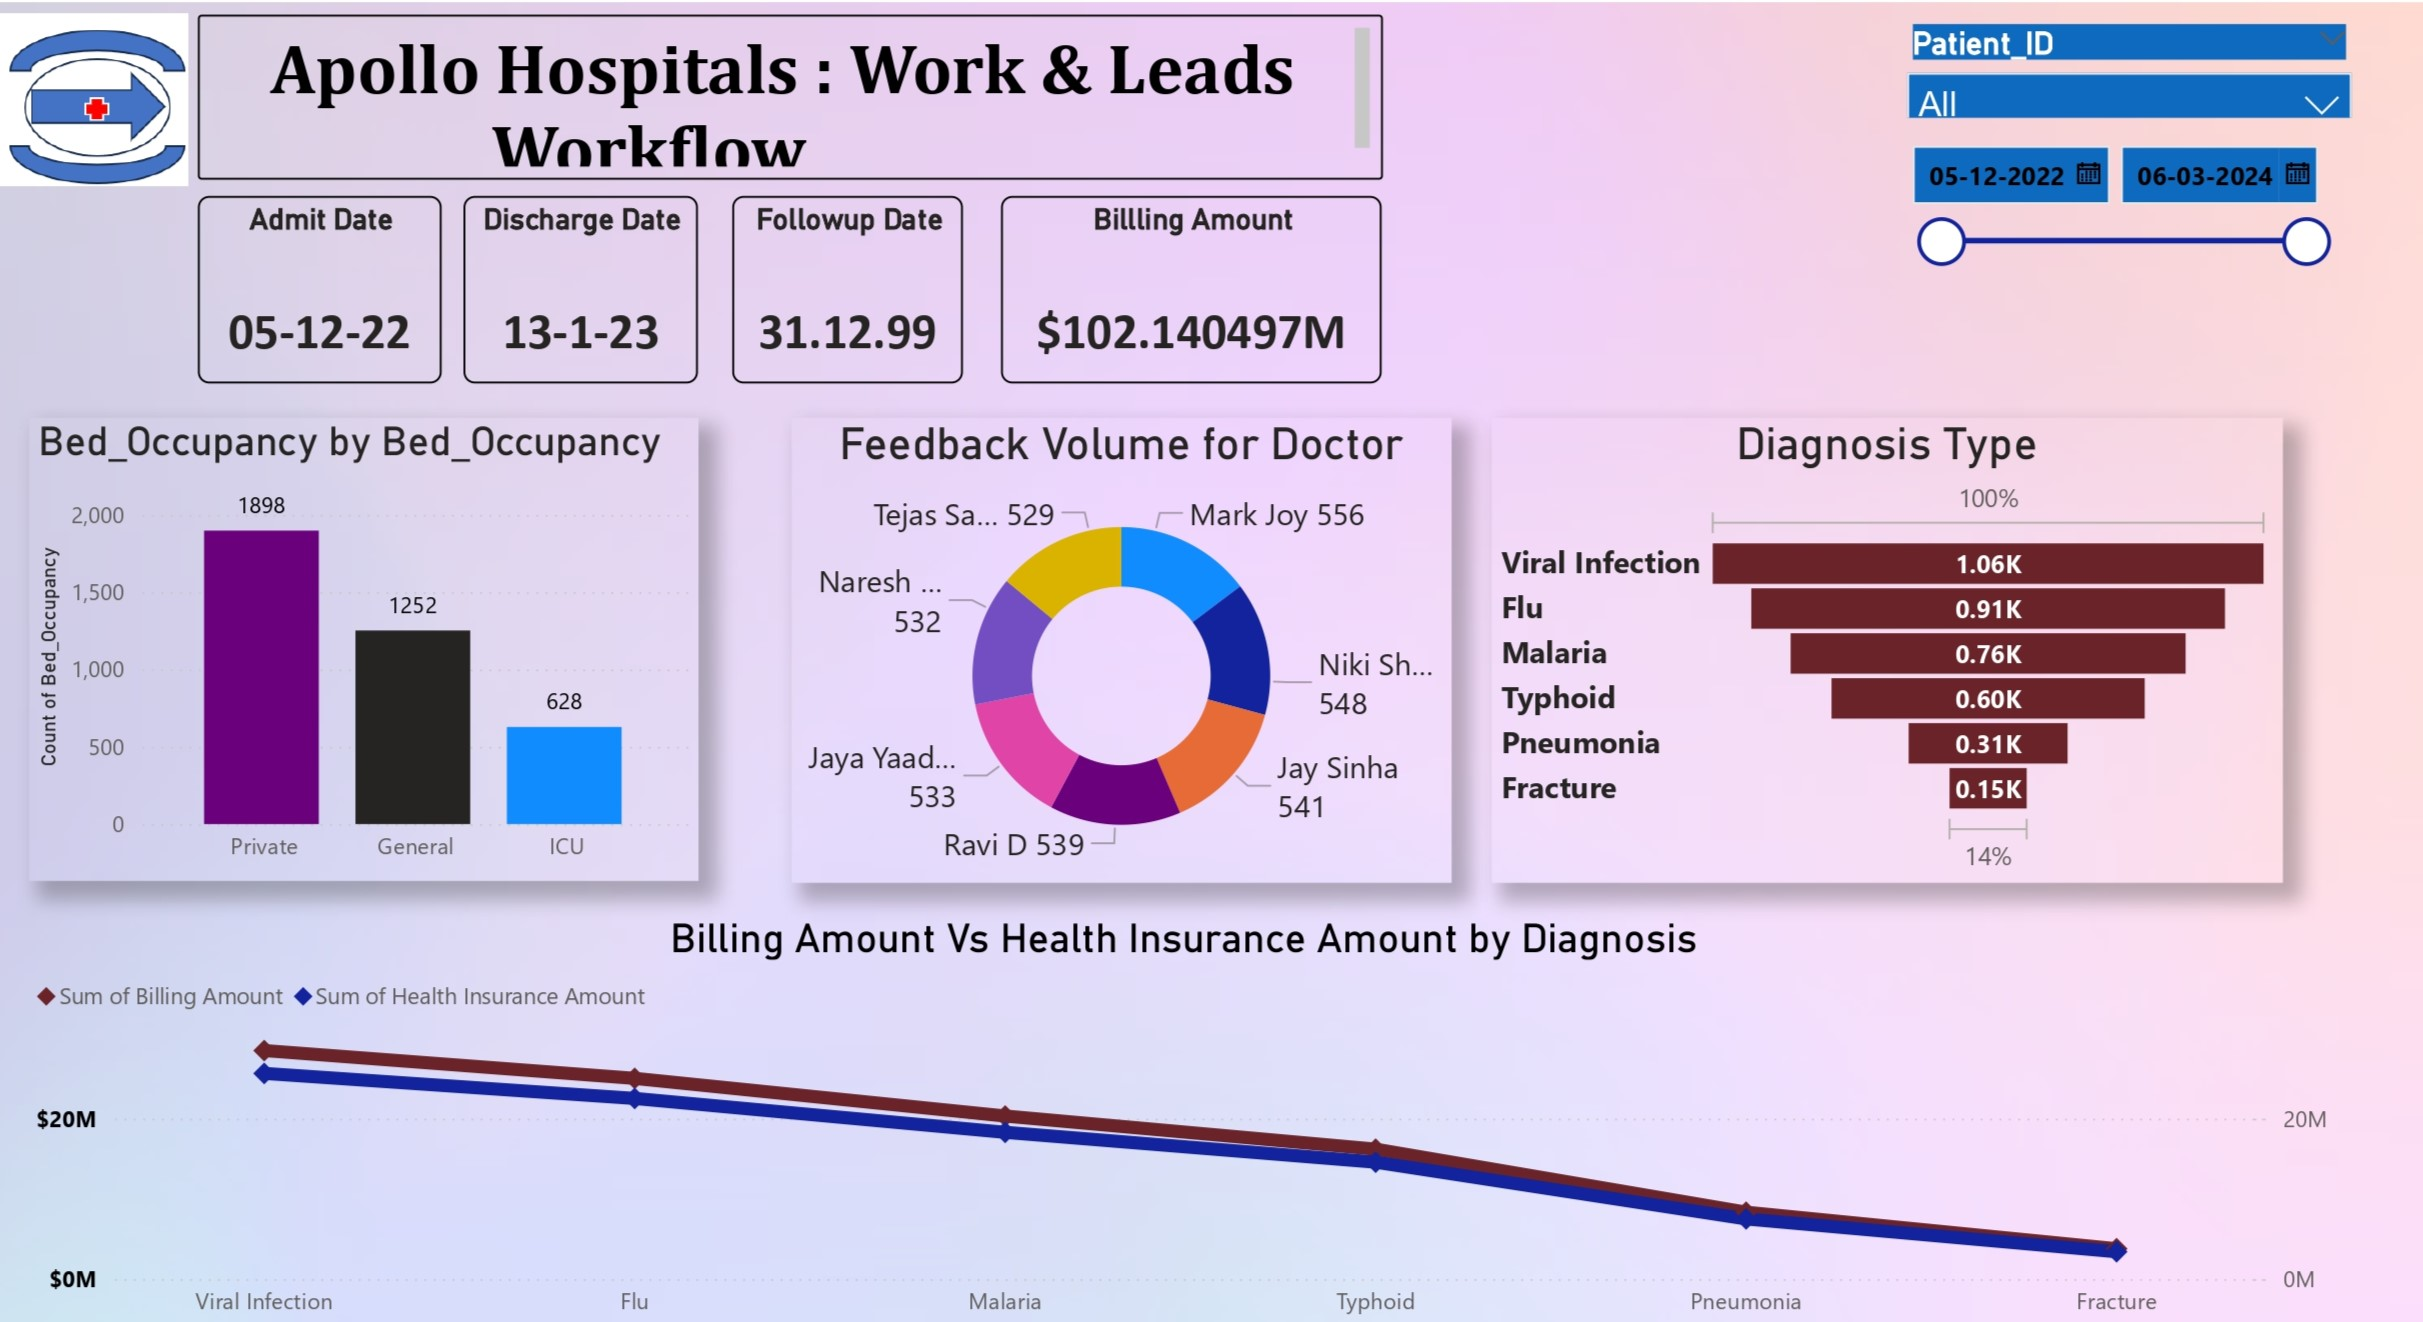

The page's visual inventory and layout, read from the dashboard file:
{"tool":"powerbi","page":{"name":"Page 1","canvas":[1280,720],"ordinal":0},"visuals":[{"type":"slicer","fields":{"Values":["Sheet1.Patient_ID"]},"box":[907.8,0,328.9,53.3],"z":0},{"type":"image","box":[78.8,0,76.2,71.2],"z":1000},{"type":"textbox","box":[173.8,18.8,630,37.5],"z":2000},{"type":"cardVisual","fields":{"Data":["Sheet1.Admit_Date"]},"box":[51.9,94.2,130.8,65.4],"z":3000},{"type":"cardVisual","fields":{"Data":["Sheet1.Discharge_Date","Sheet1.Discharge_Date"]},"box":[268.3,81.7,166.3,73.1],"z":4000},{"type":"textbox","box":[58.7,94.2,116.3,26.9],"z":5000},{"type":"textbox","box":[137,399,595,150],"z":6000},{"type":"textbox","box":[137,559,595,150],"z":7000},{"type":"textbox","box":[279.8,89.4,126.9,30.8],"z":8000},{"type":"textbox","box":[488.5,94.2,124,26],"z":9000},{"type":"cardVisual","fields":{"Data":["Sheet1.Followup Date"]},"box":[488.5,76.9,124,77.9],"z":10000},{"type":"textbox","box":[718.3,94.2,132.7,26.9],"z":11000},{"type":"cardVisual","fields":{"Data":["Sheet1.Billing Amount"]},"box":[784.8,90.2,163,73.9],"z":12000},{"type":"slicer","fields":{"Values":["Sheet1.Admit Date"]},"box":[1035.9,89.1,244.6,75],"z":13000},{"type":"columnChart","title":"Bed_Occupancy by Bed_Occupancy","fields":{"Category":["Sheet1.Bed_Occupancy"],"Y":["Sheet1.Bed_Occupancy"]},"box":[78.2,241,356.4,247.4],"z":14000},{"type":"donutChart","title":"Feedback Volume for Doctor","fields":{"Category":["Sheet1.Doctor"],"Y":["Sheet1.Doctor"]},"box":[452.6,241,351.3,247.4],"z":15000},{"type":"funnel","title":" Diagnosis Type","fields":{"Category":["Sheet1.Diagnosis"],"Y":["Sheet1.Diagnosis"]},"box":[830.8,241,423.1,260.3],"z":16000},{"type":"lineChart","title":" Billing Amount Vs Health Insurance Amount by Diagnosis","fields":{"Y":["Sheet1.Billing Amount"],"Y2":["Sheet1.Health Insurance Amount"],"Category":["Sheet1.Diagnosis"]},"box":[43.6,528.2,1129.5,180.8],"z":17000}]}

Visuals, with their boxes on the page's 1280x720 design canvas (x1, y1, x2, y2). These are canvas units, not pixel positions in the 2423x1322 screenshot, which may show the page scaled, cropped or inside an application window:
slicer - Sheet1.Patient_ID: [x1=908, y1=0, x2=1237, y2=53]
image: [x1=79, y1=0, x2=155, y2=71]
textbox: [x1=174, y1=19, x2=804, y2=56]
cardVisual - Sheet1.Admit_Date: [x1=52, y1=94, x2=183, y2=160]
cardVisual - Sheet1.Discharge_Date x Sheet1.Discharge_Date: [x1=268, y1=82, x2=435, y2=155]
textbox: [x1=59, y1=94, x2=175, y2=121]
textbox: [x1=137, y1=399, x2=732, y2=549]
textbox: [x1=137, y1=559, x2=732, y2=709]
textbox: [x1=280, y1=89, x2=407, y2=120]
textbox: [x1=488, y1=94, x2=612, y2=120]
cardVisual - Sheet1.Followup Date: [x1=488, y1=77, x2=612, y2=155]
textbox: [x1=718, y1=94, x2=851, y2=121]
cardVisual - Sheet1.Billing Amount: [x1=785, y1=90, x2=948, y2=164]
slicer - Sheet1.Admit Date: [x1=1036, y1=89, x2=1280, y2=164]
"Bed_Occupancy by Bed_Occupancy" columnChart: [x1=78, y1=241, x2=435, y2=488]
"Feedback Volume for Doctor" donutChart: [x1=453, y1=241, x2=804, y2=488]
" Diagnosis Type" funnel: [x1=831, y1=241, x2=1254, y2=501]
" Billing Amount Vs Health Insurance Amount by Diagnosis" lineChart: [x1=44, y1=528, x2=1173, y2=709]
